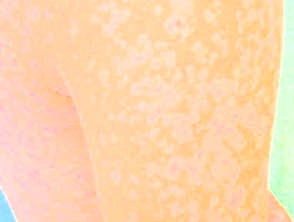SJS-TEN: (83, 1, 287, 222)
